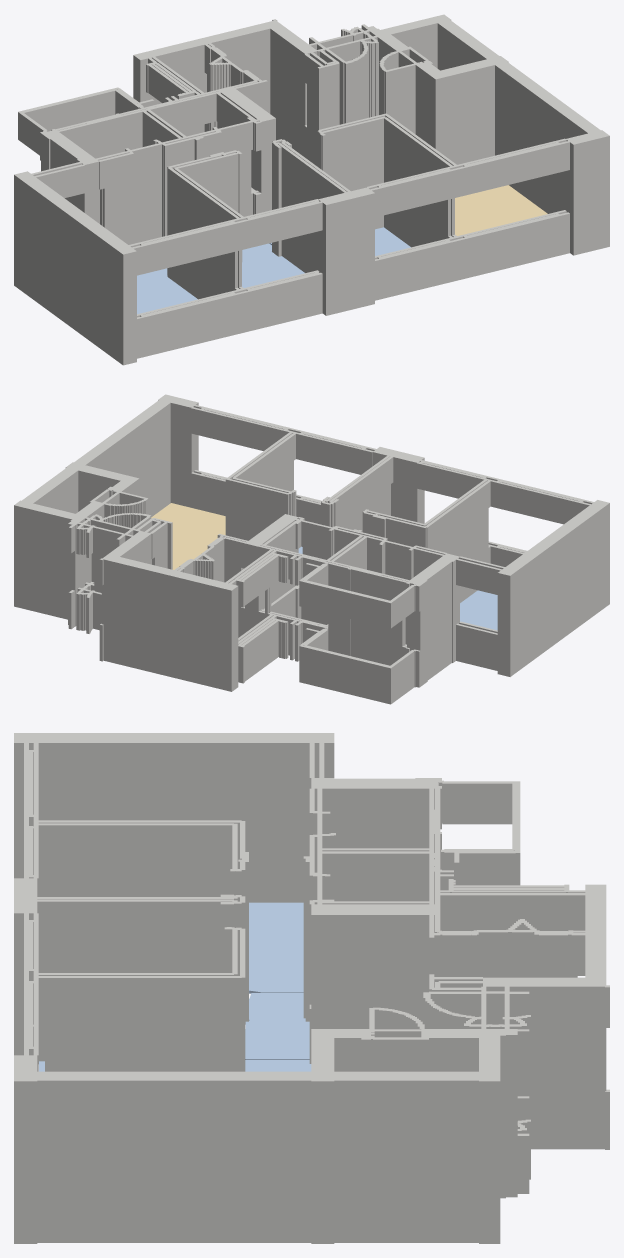
3 views of the same model, one above another, from view 1: azimuth 30°, elevation 25°; view 2: azimuth 150°, elevation 25°; view 3: azimuth 270°, elevation 25° (orthographic). The views are drawn at different scales.
Parts seen in each view (by area): view 1: walls, room:living:9, room:bedroom:7, room:bedroom:2, room:bedroom:8; view 2: walls, room:living:9, room:bedroom:2; view 3: walls, room:bedroom:2, room:bedroom:7, room:bedroom:8.
Boxes of the visible parts, <box> form: walls: <box>14,14,609,365</box>; room:living:9: <box>455,185,547,235</box>; room:bedroom:7: <box>242,243,304,287</box>; room:bedroom:2: <box>137,268,197,314</box>; room:bedroom:8: <box>269,227,410,255</box>; walls: <box>14,394,609,704</box>; room:living:9: <box>151,503,225,569</box>; room:bedroom:2: <box>460,590,497,630</box>; walls: <box>14,733,609,1243</box>; room:bedroom:2: <box>249,902,303,993</box>; room:bedroom:7: <box>245,993,309,1059</box>; room:bedroom:8: <box>39,1060,311,1071</box>.
Bounding box in the file's own units: 12.86 × 2.8 × 9.3.
